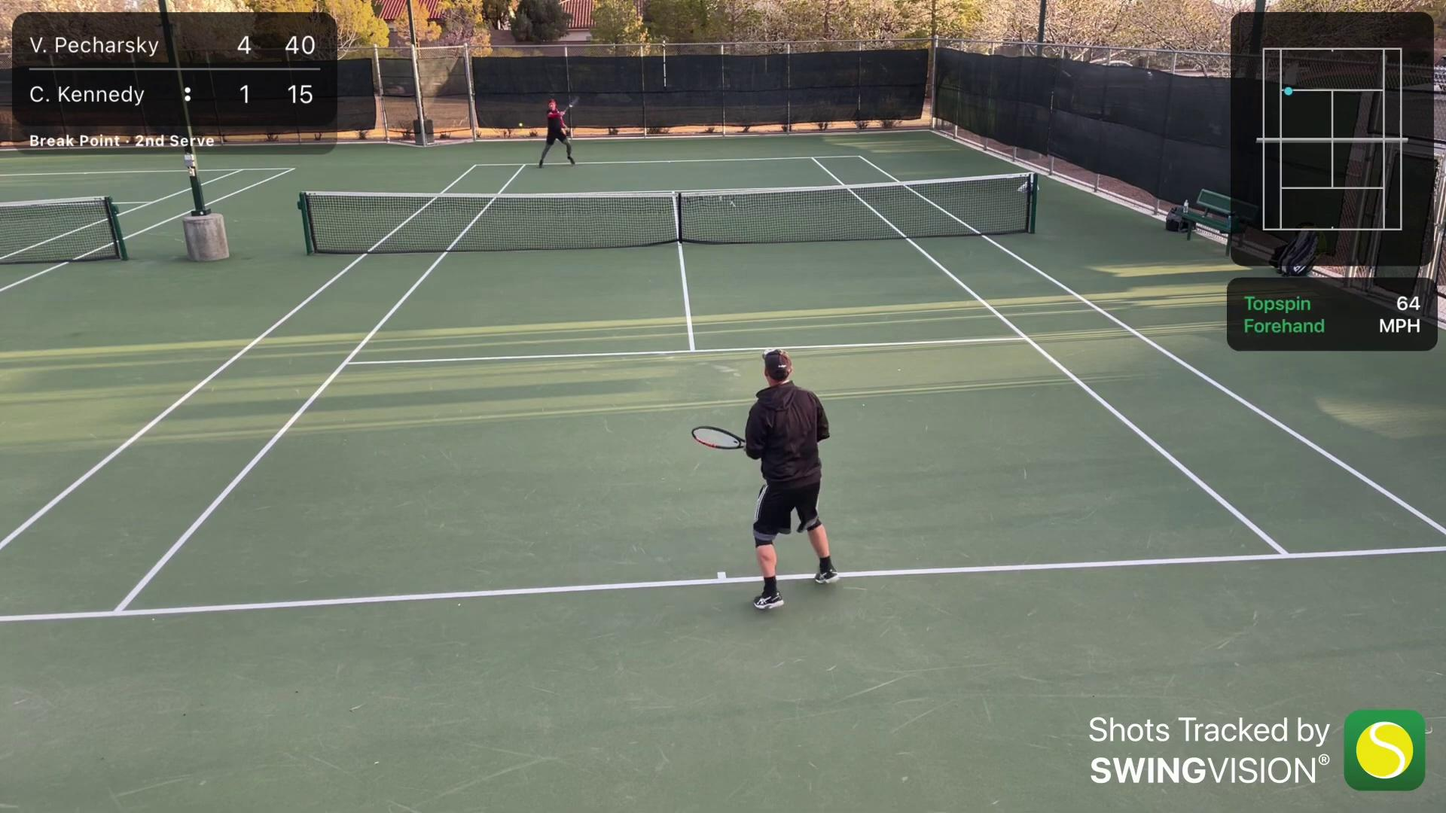ball: (518, 121, 525, 127)
